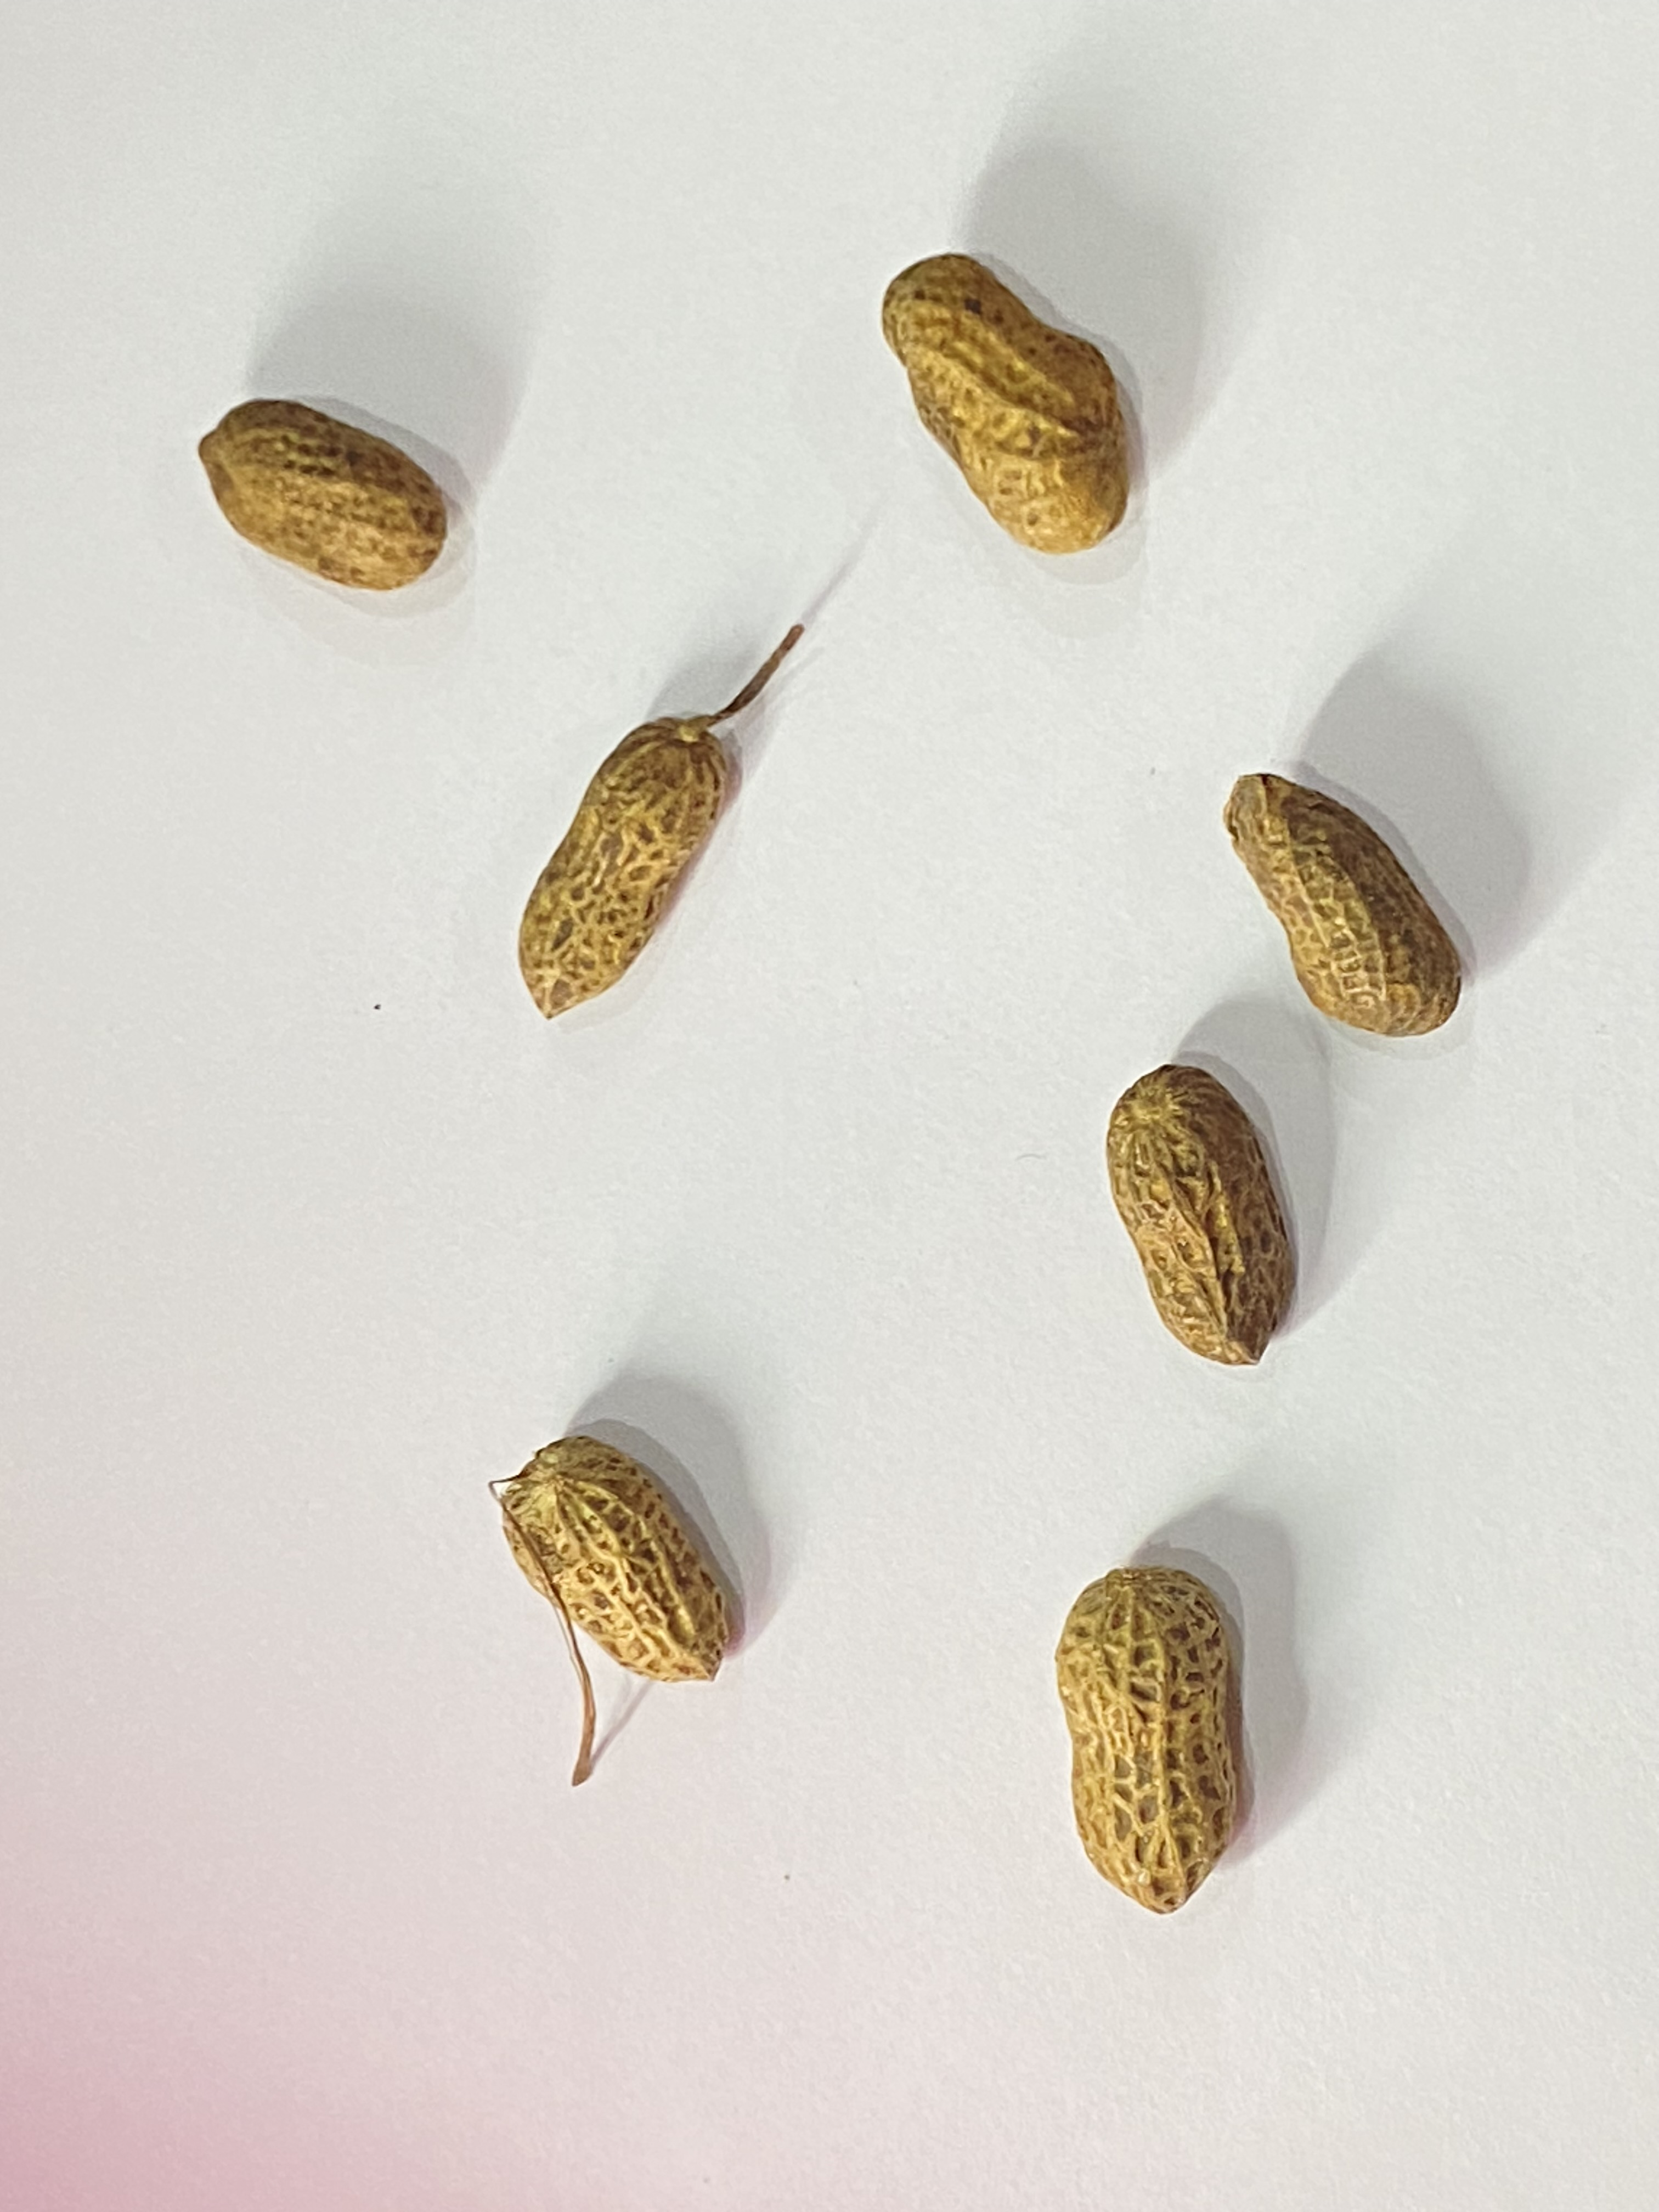kacang2: (875, 239, 1136, 561), (1065, 1064, 1328, 1371), (502, 723, 735, 1043), (1053, 1569, 1256, 1916), (495, 1435, 758, 1689), (1222, 766, 1462, 1035), (190, 380, 453, 592)
